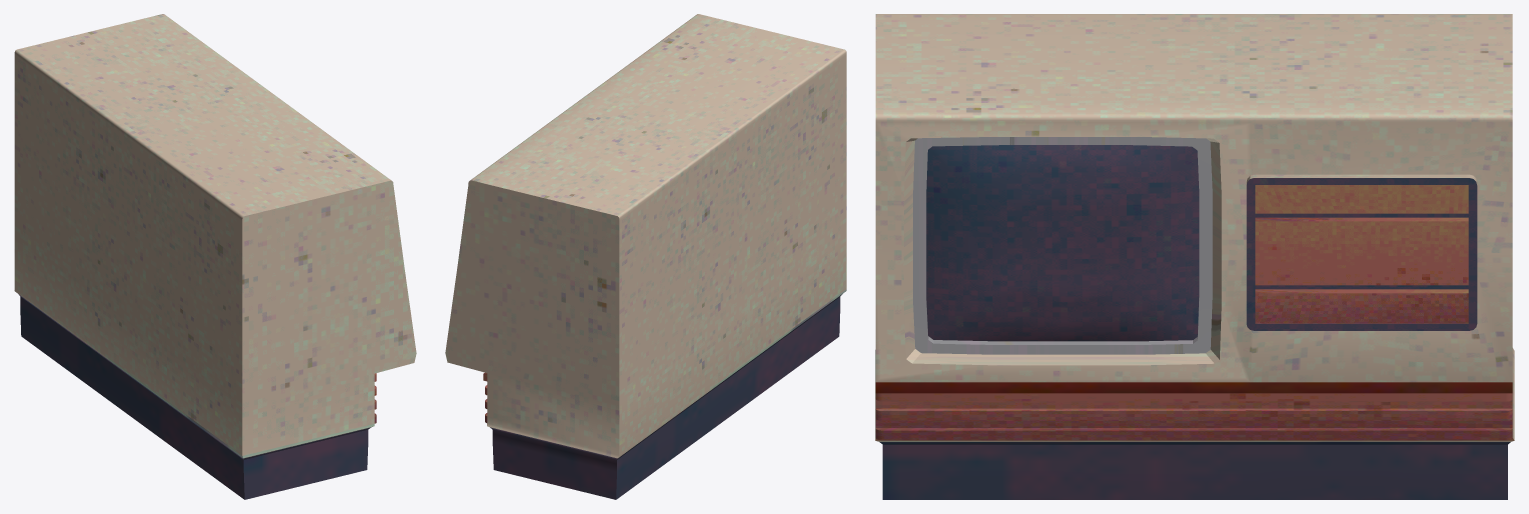
Rendered from ScientificComputer.fbx.
3 views of the same model, side by side, from view 1: azimuth 30°, elevation 25°; view 2: azimuth 150°, elevation 25°; view 3: azimuth 270°, elevation 25° (orthographic). The views are drawn at different scales.
Parts seen in each view (by area): view 1: Cube.007; view 2: Cube.007; view 3: Cube.007.
Boxes of the visible parts, x1,y1,x2,y2 form: Cube.007: [14, 14, 416, 499]; Cube.007: [445, 14, 846, 499]; Cube.007: [875, 14, 1514, 499].
Size of the model in its own units: 40.15 by 62.58 by 90.56.
